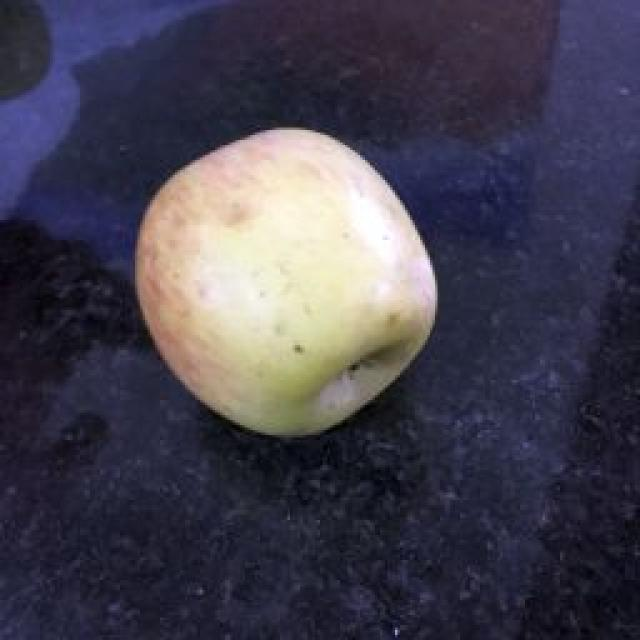Good_Apple: (132, 128, 438, 440)
